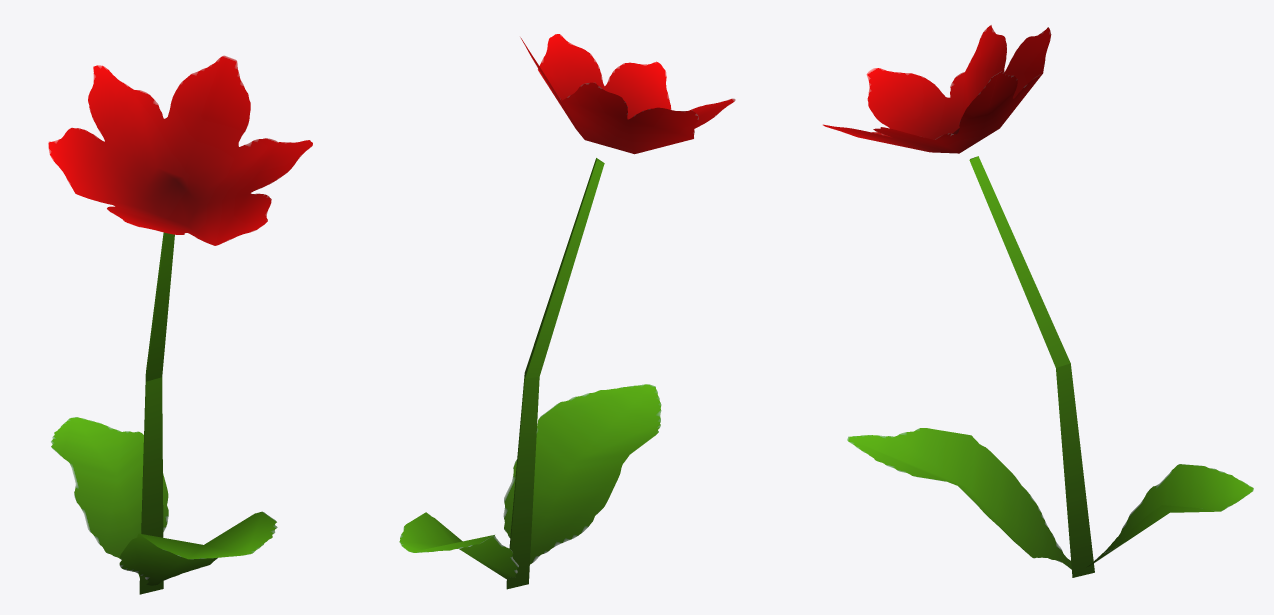
The model's file is Flower_0.fbx.
3 views of the same model, side by side, from view 1: azimuth 30°, elevation 25°; view 2: azimuth 150°, elevation 25°; view 3: azimuth 270°, elevation 25° (orthographic). The views are drawn at different scales.
Parts seen in each view (by area): view 1: Flower 0; view 2: Flower 0; view 3: Flower 0.
Part boxes in pixels (bbox=[...]): Flower 0: bbox=[48, 55, 312, 594]; Flower 0: bbox=[399, 34, 735, 589]; Flower 0: bbox=[823, 25, 1253, 577].
Size of the model in its own units: 34.73 by 63.54 by 50.74.
